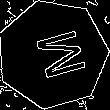M_W: (22, 25, 84, 84)
